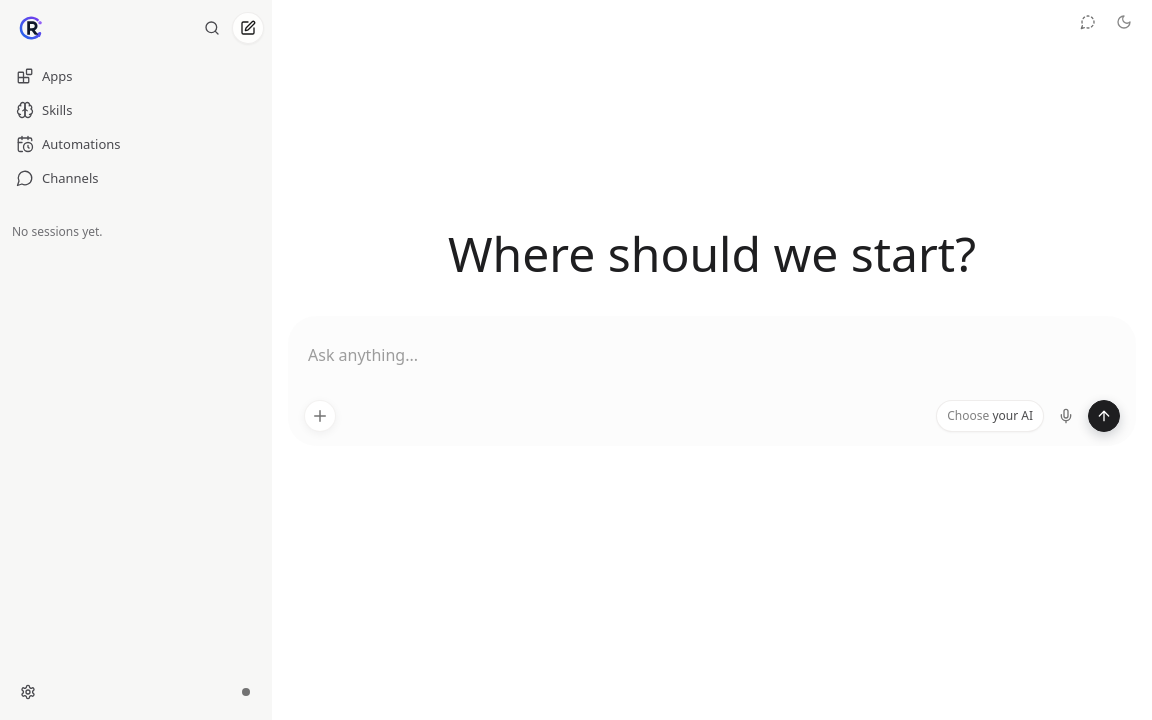
Scenario: App layout › uses one main landmark and a page heading in desktop settings
Step 1. Click the button named "Settings" → (28, 692), box [10,676,46,708]
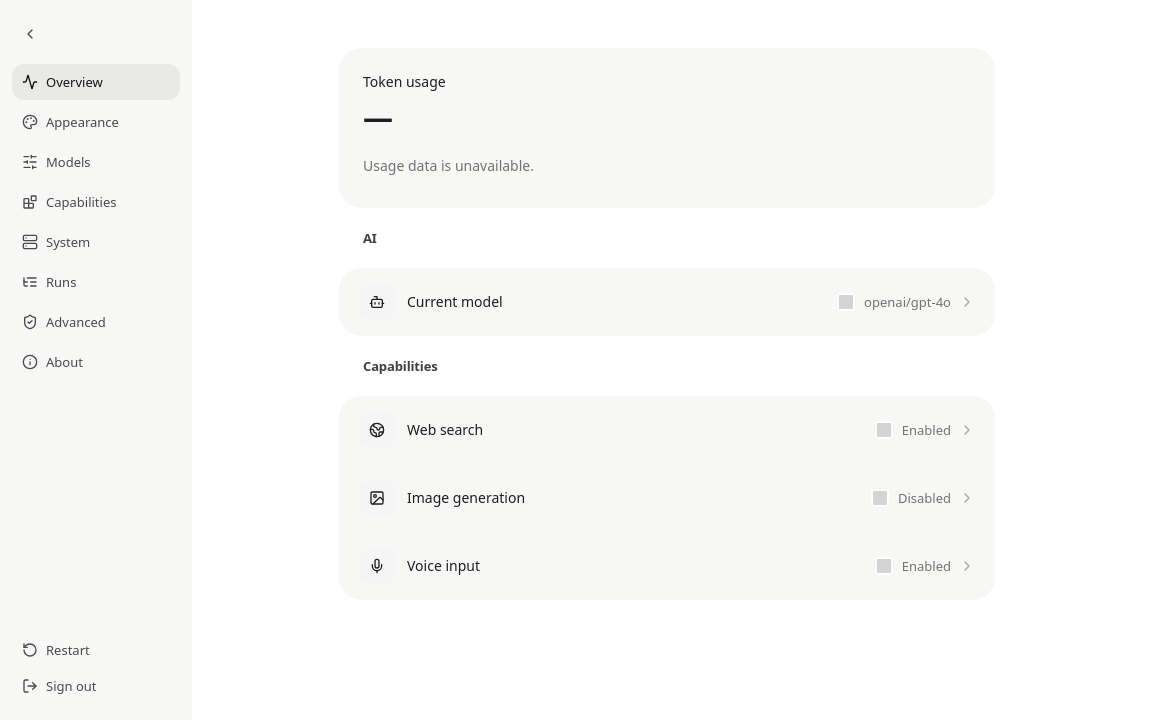
Expected: the navigation bar named "Settings sections" is shown, [12,64,180,380]
